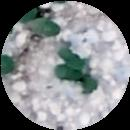Basil: (57, 46, 87, 70), (55, 65, 83, 84), (34, 17, 62, 35)
